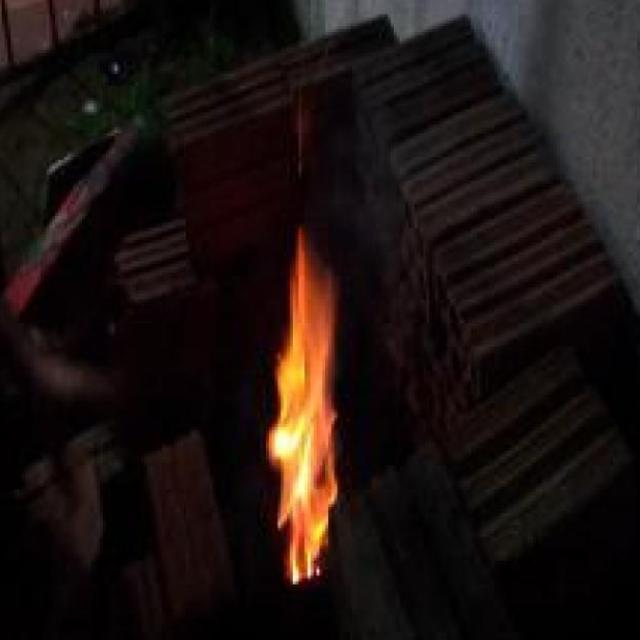smoke: (267, 230, 342, 590)
